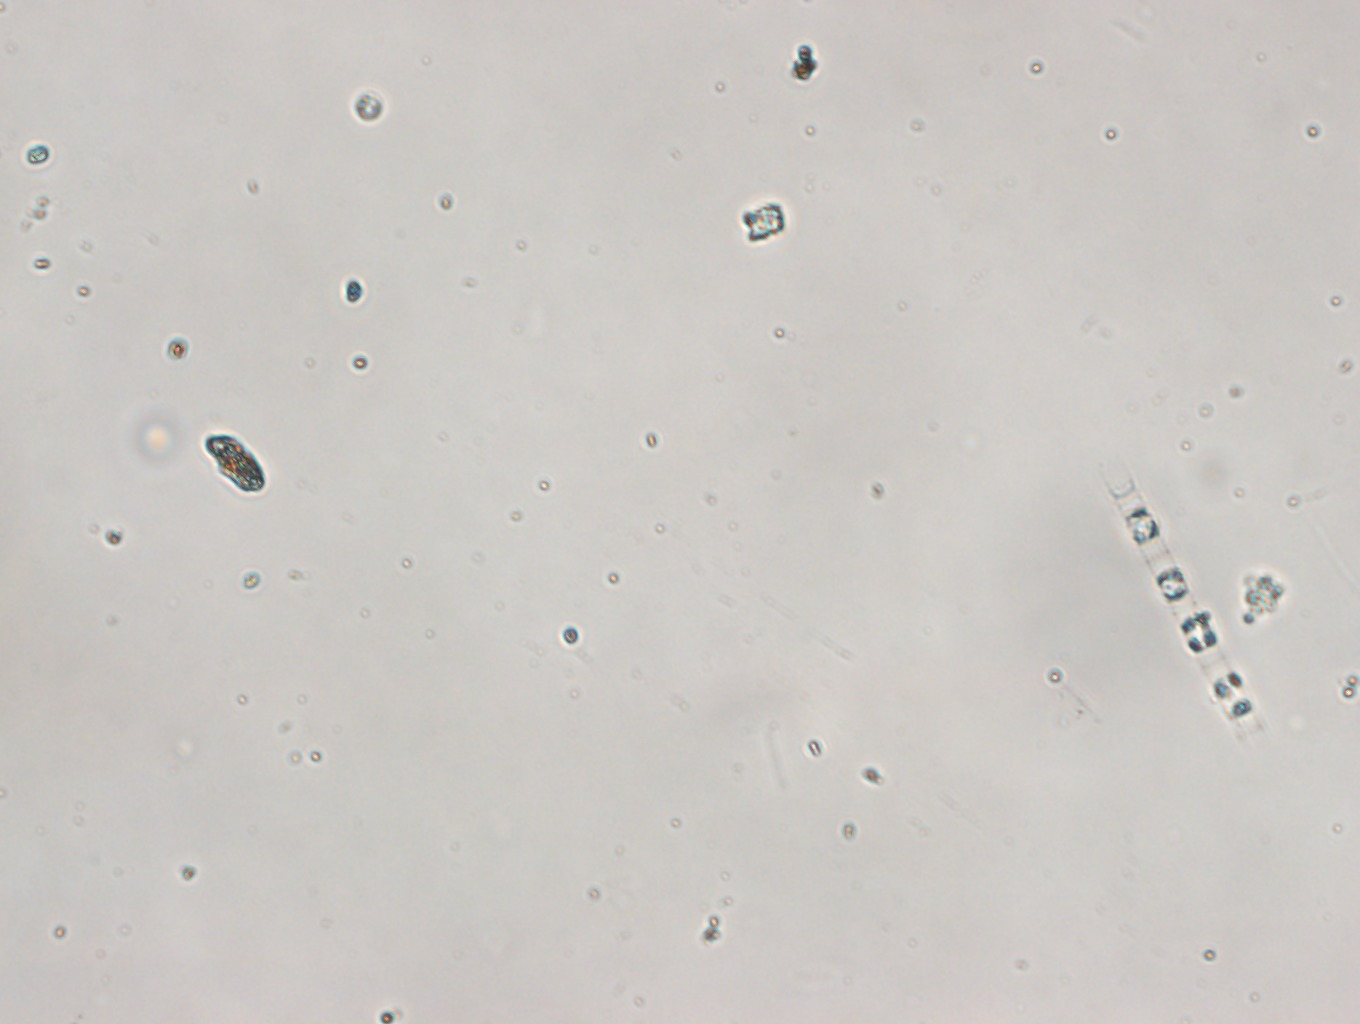skeletonema: (1113, 467, 1284, 744)
